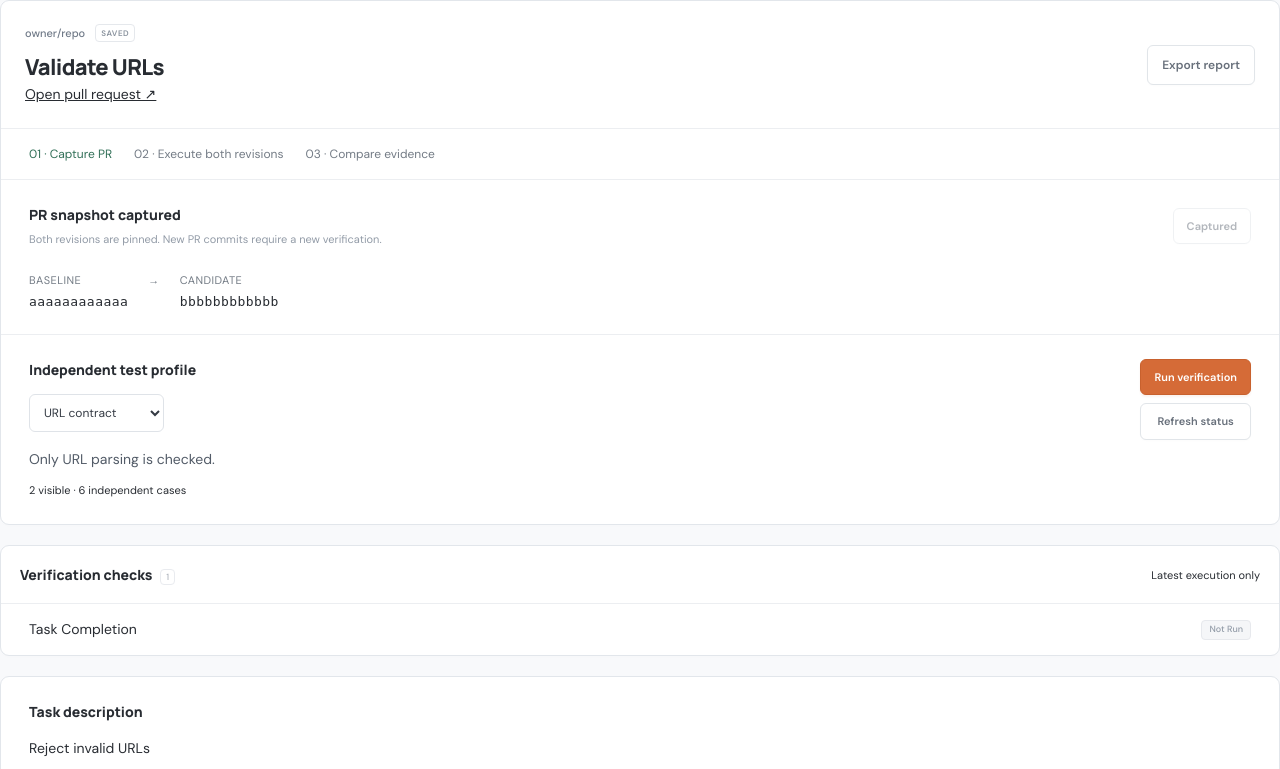
Test case: keeps the idempotency key on an uncertain submission and exposes cancellation
Click the button "Run verification" at (1196, 377), box [1140, 358, 1251, 395]
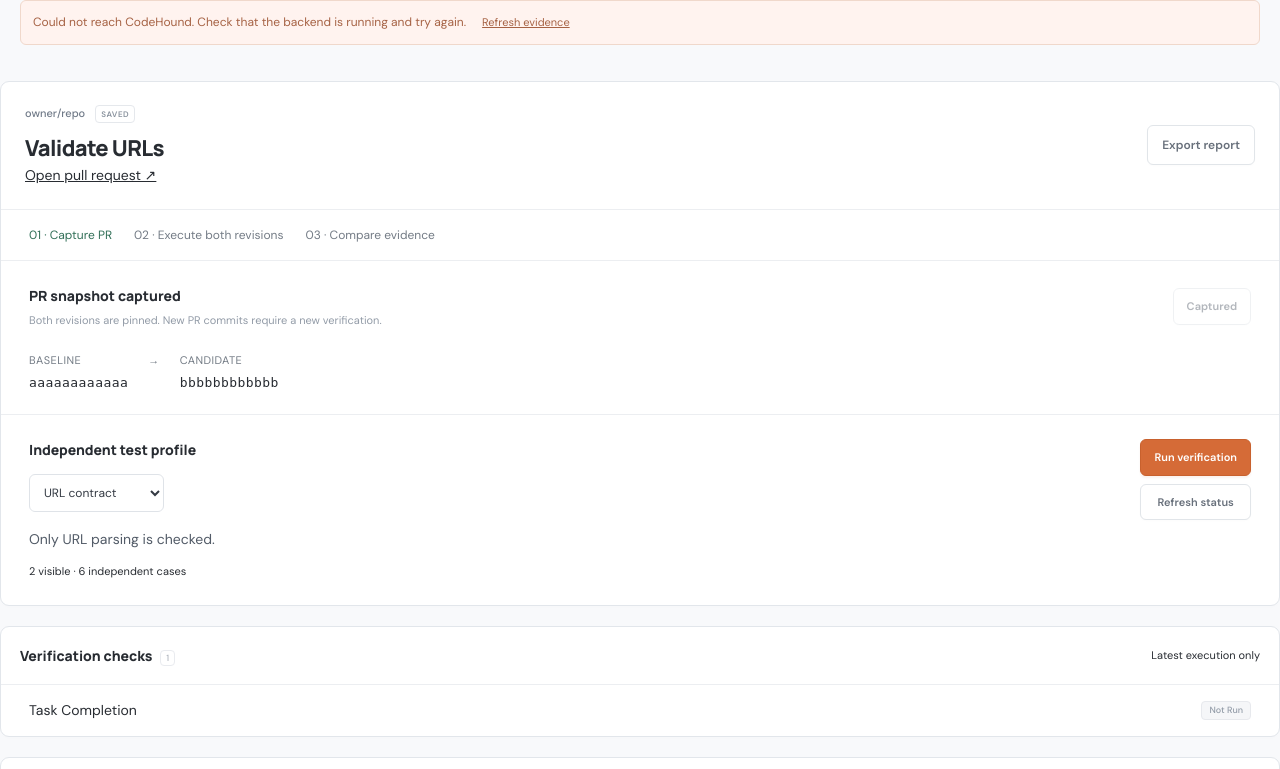
expect the message is shown: met, box [20, 0, 1260, 44]
Click the button "Run verification" at (1196, 457), box [1140, 439, 1251, 476]
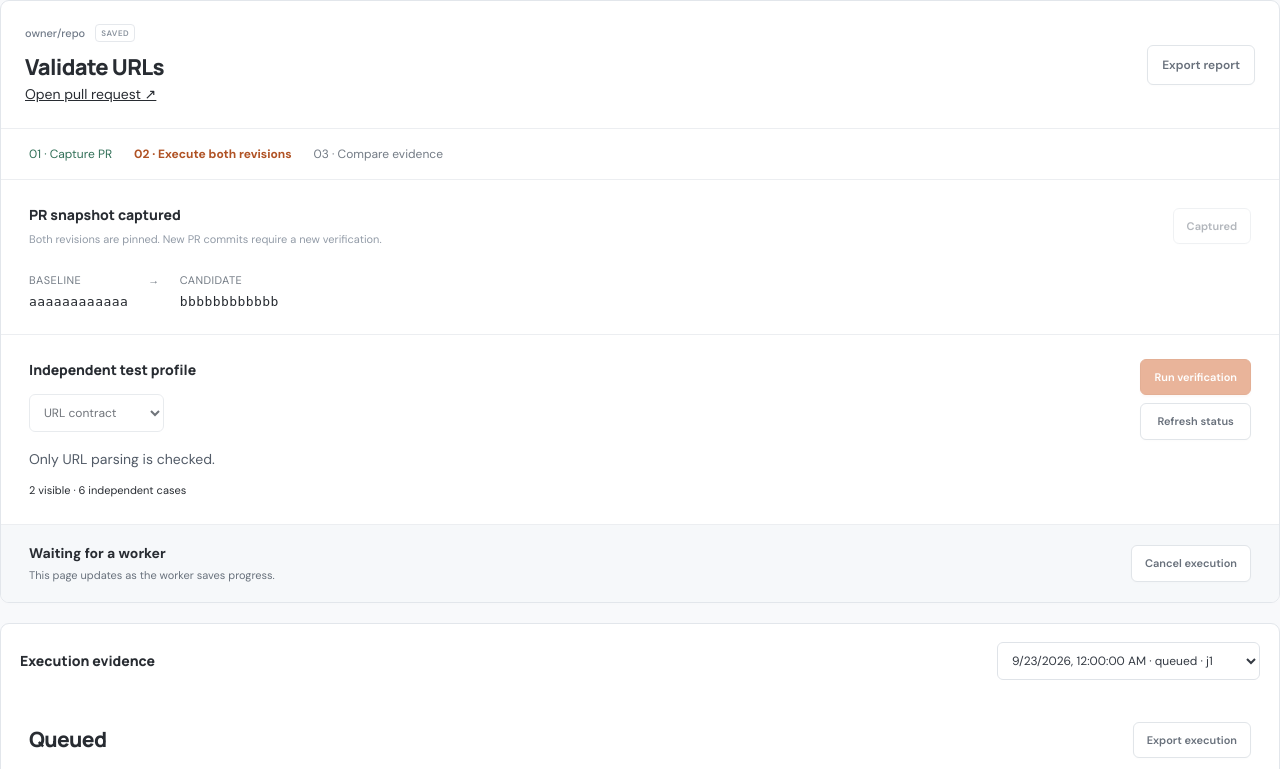
expect the button "Cancel execution" is shown: met, box [1131, 545, 1251, 582]
expect the button "Run verification" is disabled: met, box [1140, 358, 1251, 395]
